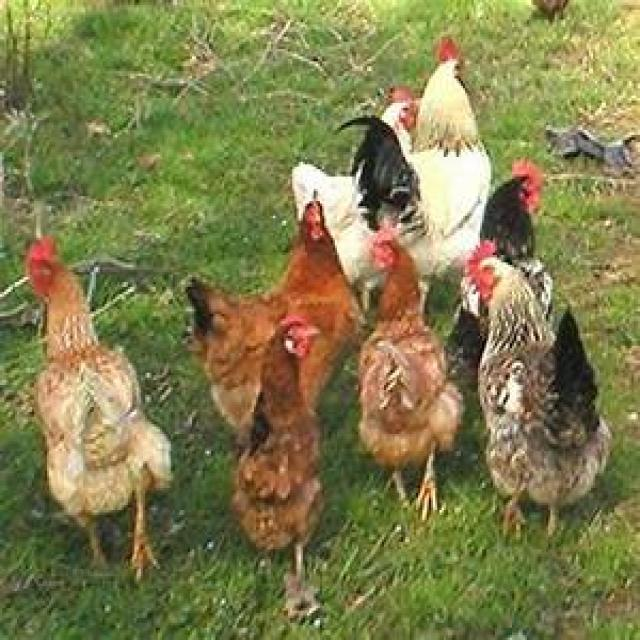hen: (25, 236, 170, 578), (468, 244, 611, 532), (352, 49, 491, 275), (359, 230, 462, 517), (232, 313, 322, 614), (291, 162, 375, 284), (381, 98, 418, 159)
